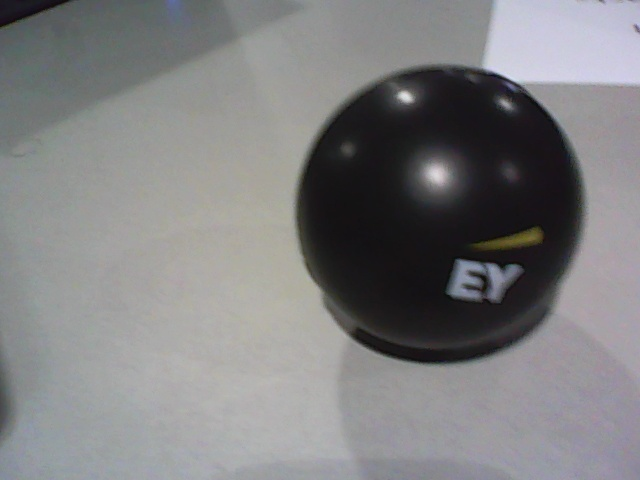ball: (296, 67, 583, 360)
